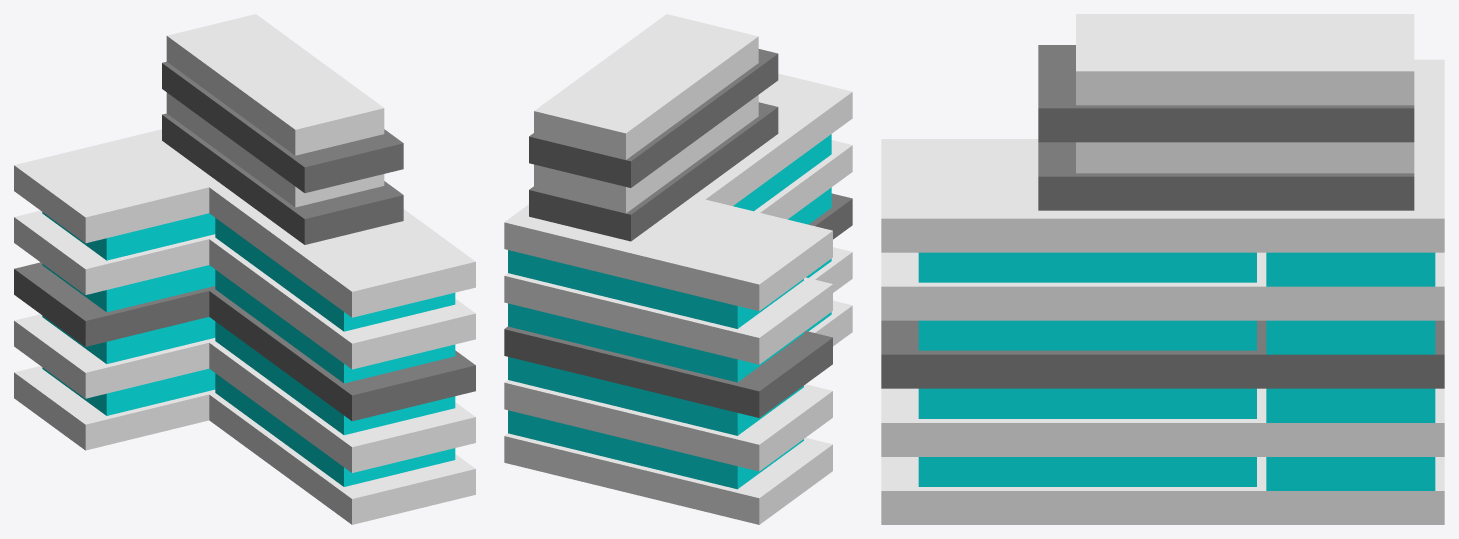
The model's file is mansion02.glb.
The picture shows the model from 3 angles, left to right: view 1: azimuth 30°, elevation 25°; view 2: azimuth 150°, elevation 25°; view 3: azimuth 270°, elevation 25°; orthographic projection. The views are drawn at different scales.
Parts seen in each view (by area): view 1: pCube4.002, pCube9.001, pCube9, pCube5.001, pCube3.001, pCube8.001, pCube1.001, pCube3.002, pCube1.002, pCube8, pCube1, pCube3 (+10 smaller); view 2: pCube9, pCube4.002, pCube3, pCube1, pCube5, pCube8, pCube9.001, pCube1.002, pCube3.002, pCube7, pCube6, pCube2 (+8 smaller); view 3: pCube4.002, pCube9.001, pCube3.002, pCube5.001, pCube8.001, pCube1.002, pCube3.001, pCube1.001, pCube9, pCube2.002, pCube4.001, pCube6.001 (+10 smaller).
Boxes of the visible parts, x1=… form: pCube4.002: x1=166, y1=14, x2=384, y2=155; pCube9.001: x1=209, y1=184, x2=475, y2=317; pCube9: x1=14, y1=129, x2=220, y2=243; pCube5.001: x1=209, y1=289, x2=475, y2=421; pCube3.001: x1=209, y1=341, x2=475, y2=472; pCube8.001: x1=209, y1=237, x2=475, y2=369; pCube1.001: x1=209, y1=393, x2=475, y2=524; pCube3.002: x1=162, y1=61, x2=403, y2=192; pCube1.002: x1=162, y1=113, x2=403, y2=244; pCube8: x1=14, y1=210, x2=215, y2=294; pCube1: x1=14, y1=366, x2=215, y2=450; pCube3: x1=14, y1=314, x2=215, y2=398; pCube9: x1=504, y1=196, x2=832, y2=311; pCube4.002: x1=534, y1=14, x2=758, y2=159; pCube3: x1=504, y1=380, x2=832, y2=471; pCube1: x1=504, y1=433, x2=832, y2=524; pCube5: x1=504, y1=326, x2=832, y2=417; pCube8: x1=504, y1=273, x2=832, y2=364; pCube9.001: x1=693, y1=73, x2=852, y2=205; pCube1.002: x1=529, y1=102, x2=778, y2=241; pCube3.002: x1=529, y1=49, x2=778, y2=187; pCube7: x1=508, y1=250, x2=803, y2=328; pCube6: x1=508, y1=303, x2=803, y2=382; pCube2: x1=508, y1=410, x2=803, y2=489; pCube4.002: x1=1076, y1=14, x2=1414, y2=105; pCube9.001: x1=881, y1=139, x2=1256, y2=252; pCube3.002: x1=1038, y1=45, x2=1414, y2=142; pCube5.001: x1=881, y1=320, x2=1256, y2=388; pCube8.001: x1=881, y1=252, x2=1256, y2=320; pCube1.002: x1=1038, y1=142, x2=1414, y2=210; pCube3.001: x1=881, y1=388, x2=1256, y2=456; pCube1.001: x1=881, y1=457, x2=1256, y2=524; pCube9: x1=1257, y1=59, x2=1444, y2=252; pCube2.002: x1=1076, y1=142, x2=1414, y2=173; pCube4.001: x1=918, y1=388, x2=1256, y2=418; pCube6.001: x1=918, y1=320, x2=1256, y2=350.
Size of the model in its own units: 8 by 10.4 by 12.
